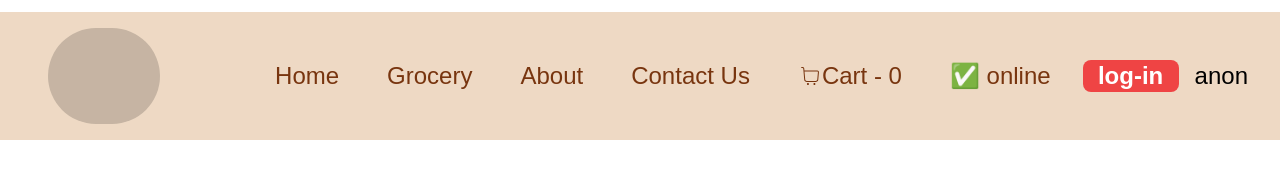
it: should login logout button
Click the button "log-in".
click(1131, 76)  # box [1083,60,1179,92]
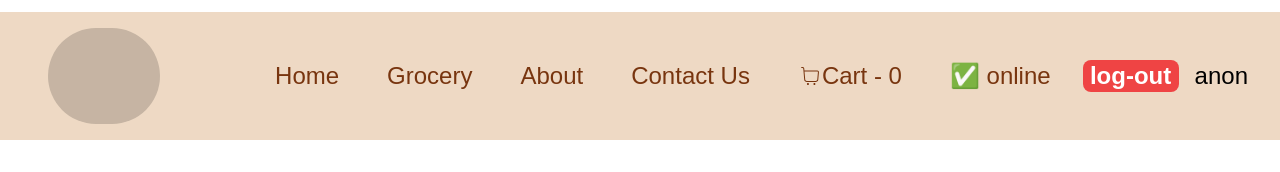
Result: the button "log-out" is shown at [1083,60,1179,92]
